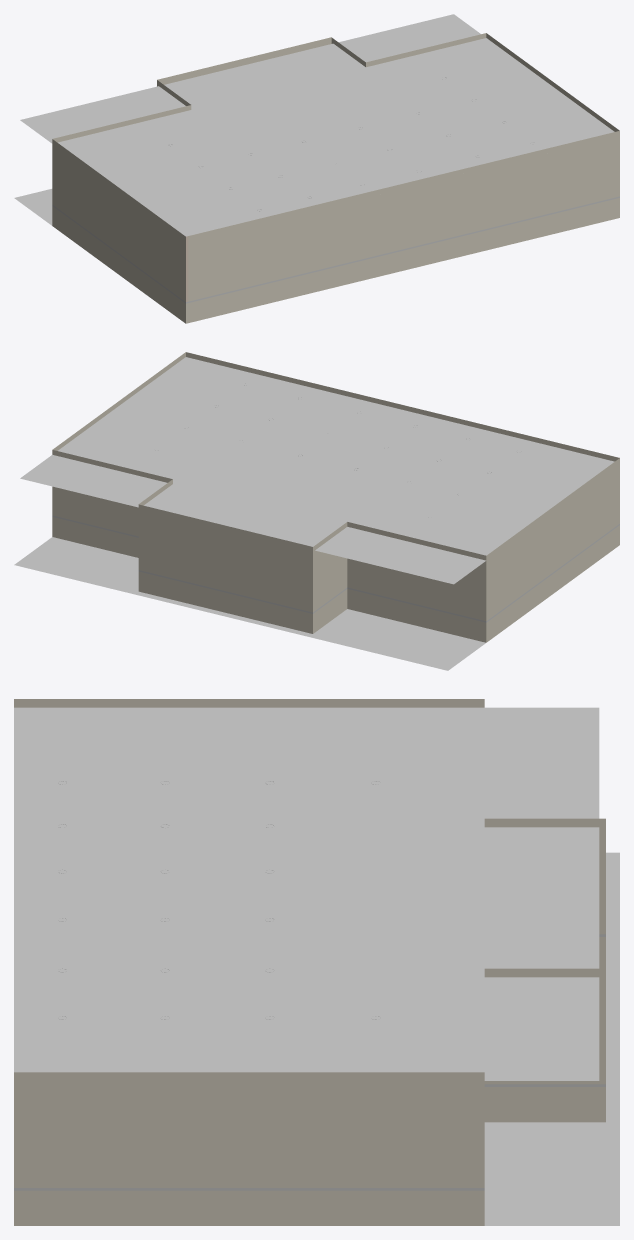
The model's file is Default Studio C.fbx.
The picture shows the model from 3 angles, top to bottom: view 1: azimuth 30°, elevation 25°; view 2: azimuth 150°, elevation 25°; view 3: azimuth 270°, elevation 25°; orthographic projection. The views are drawn at different scales.
Visible parts, largest first — view 1: Circle.041; view 2: Circle.041; view 3: Circle.041.
Boxes of the visible parts, x1=… form: Circle.041: x1=14, y1=14, x2=619, y2=323; Circle.041: x1=14, y1=352, x2=619, y2=670; Circle.041: x1=14, y1=699, x2=619, y2=1225.
Bounding box in the file's own units: 1368 × 263 × 939.
